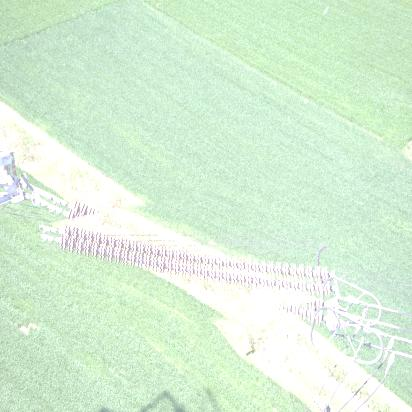insulator: (46, 182, 336, 342)
